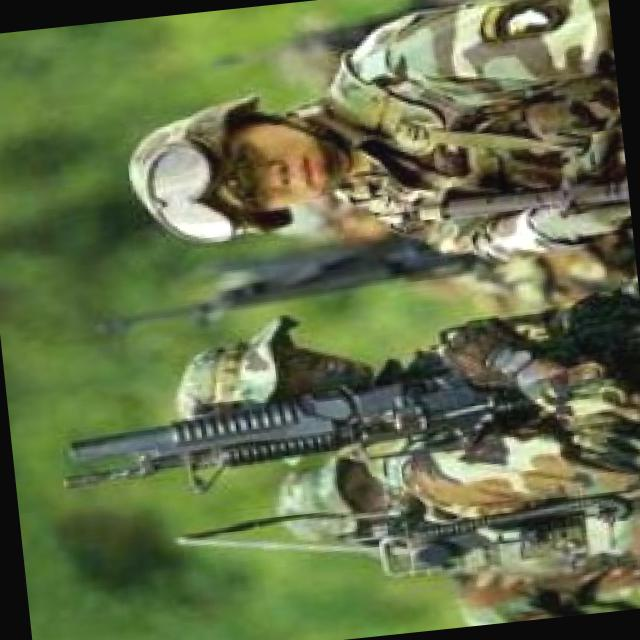long weapon: (59, 332, 578, 502)
